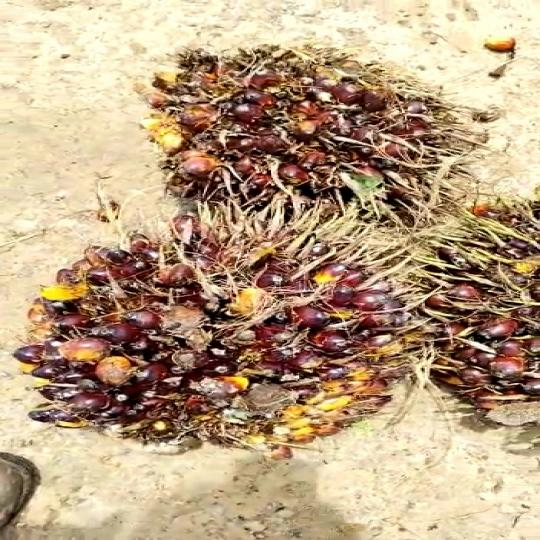masak: (6, 202, 418, 472), (114, 38, 534, 244)
